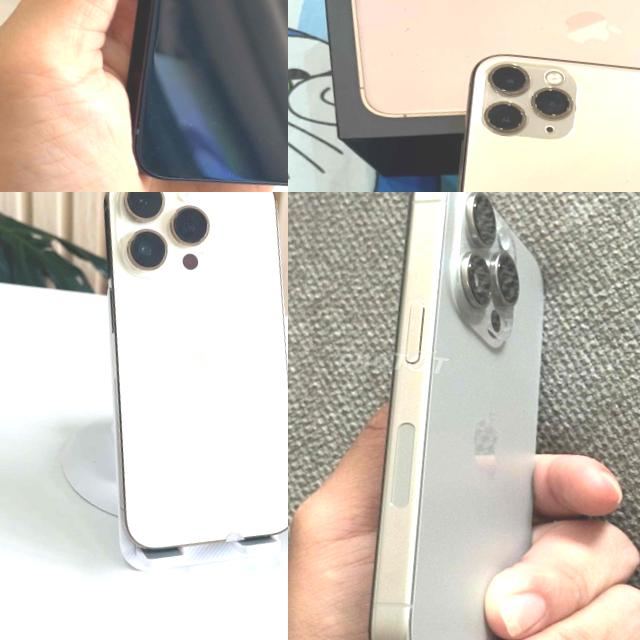gen_12_13: (121, 0, 288, 192)
gen_14: (62, 192, 288, 572), (417, 43, 640, 192)
gen_15: (325, 192, 601, 640)
